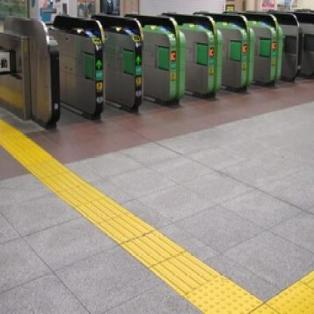Podoctatil: (0, 107, 314, 314)
